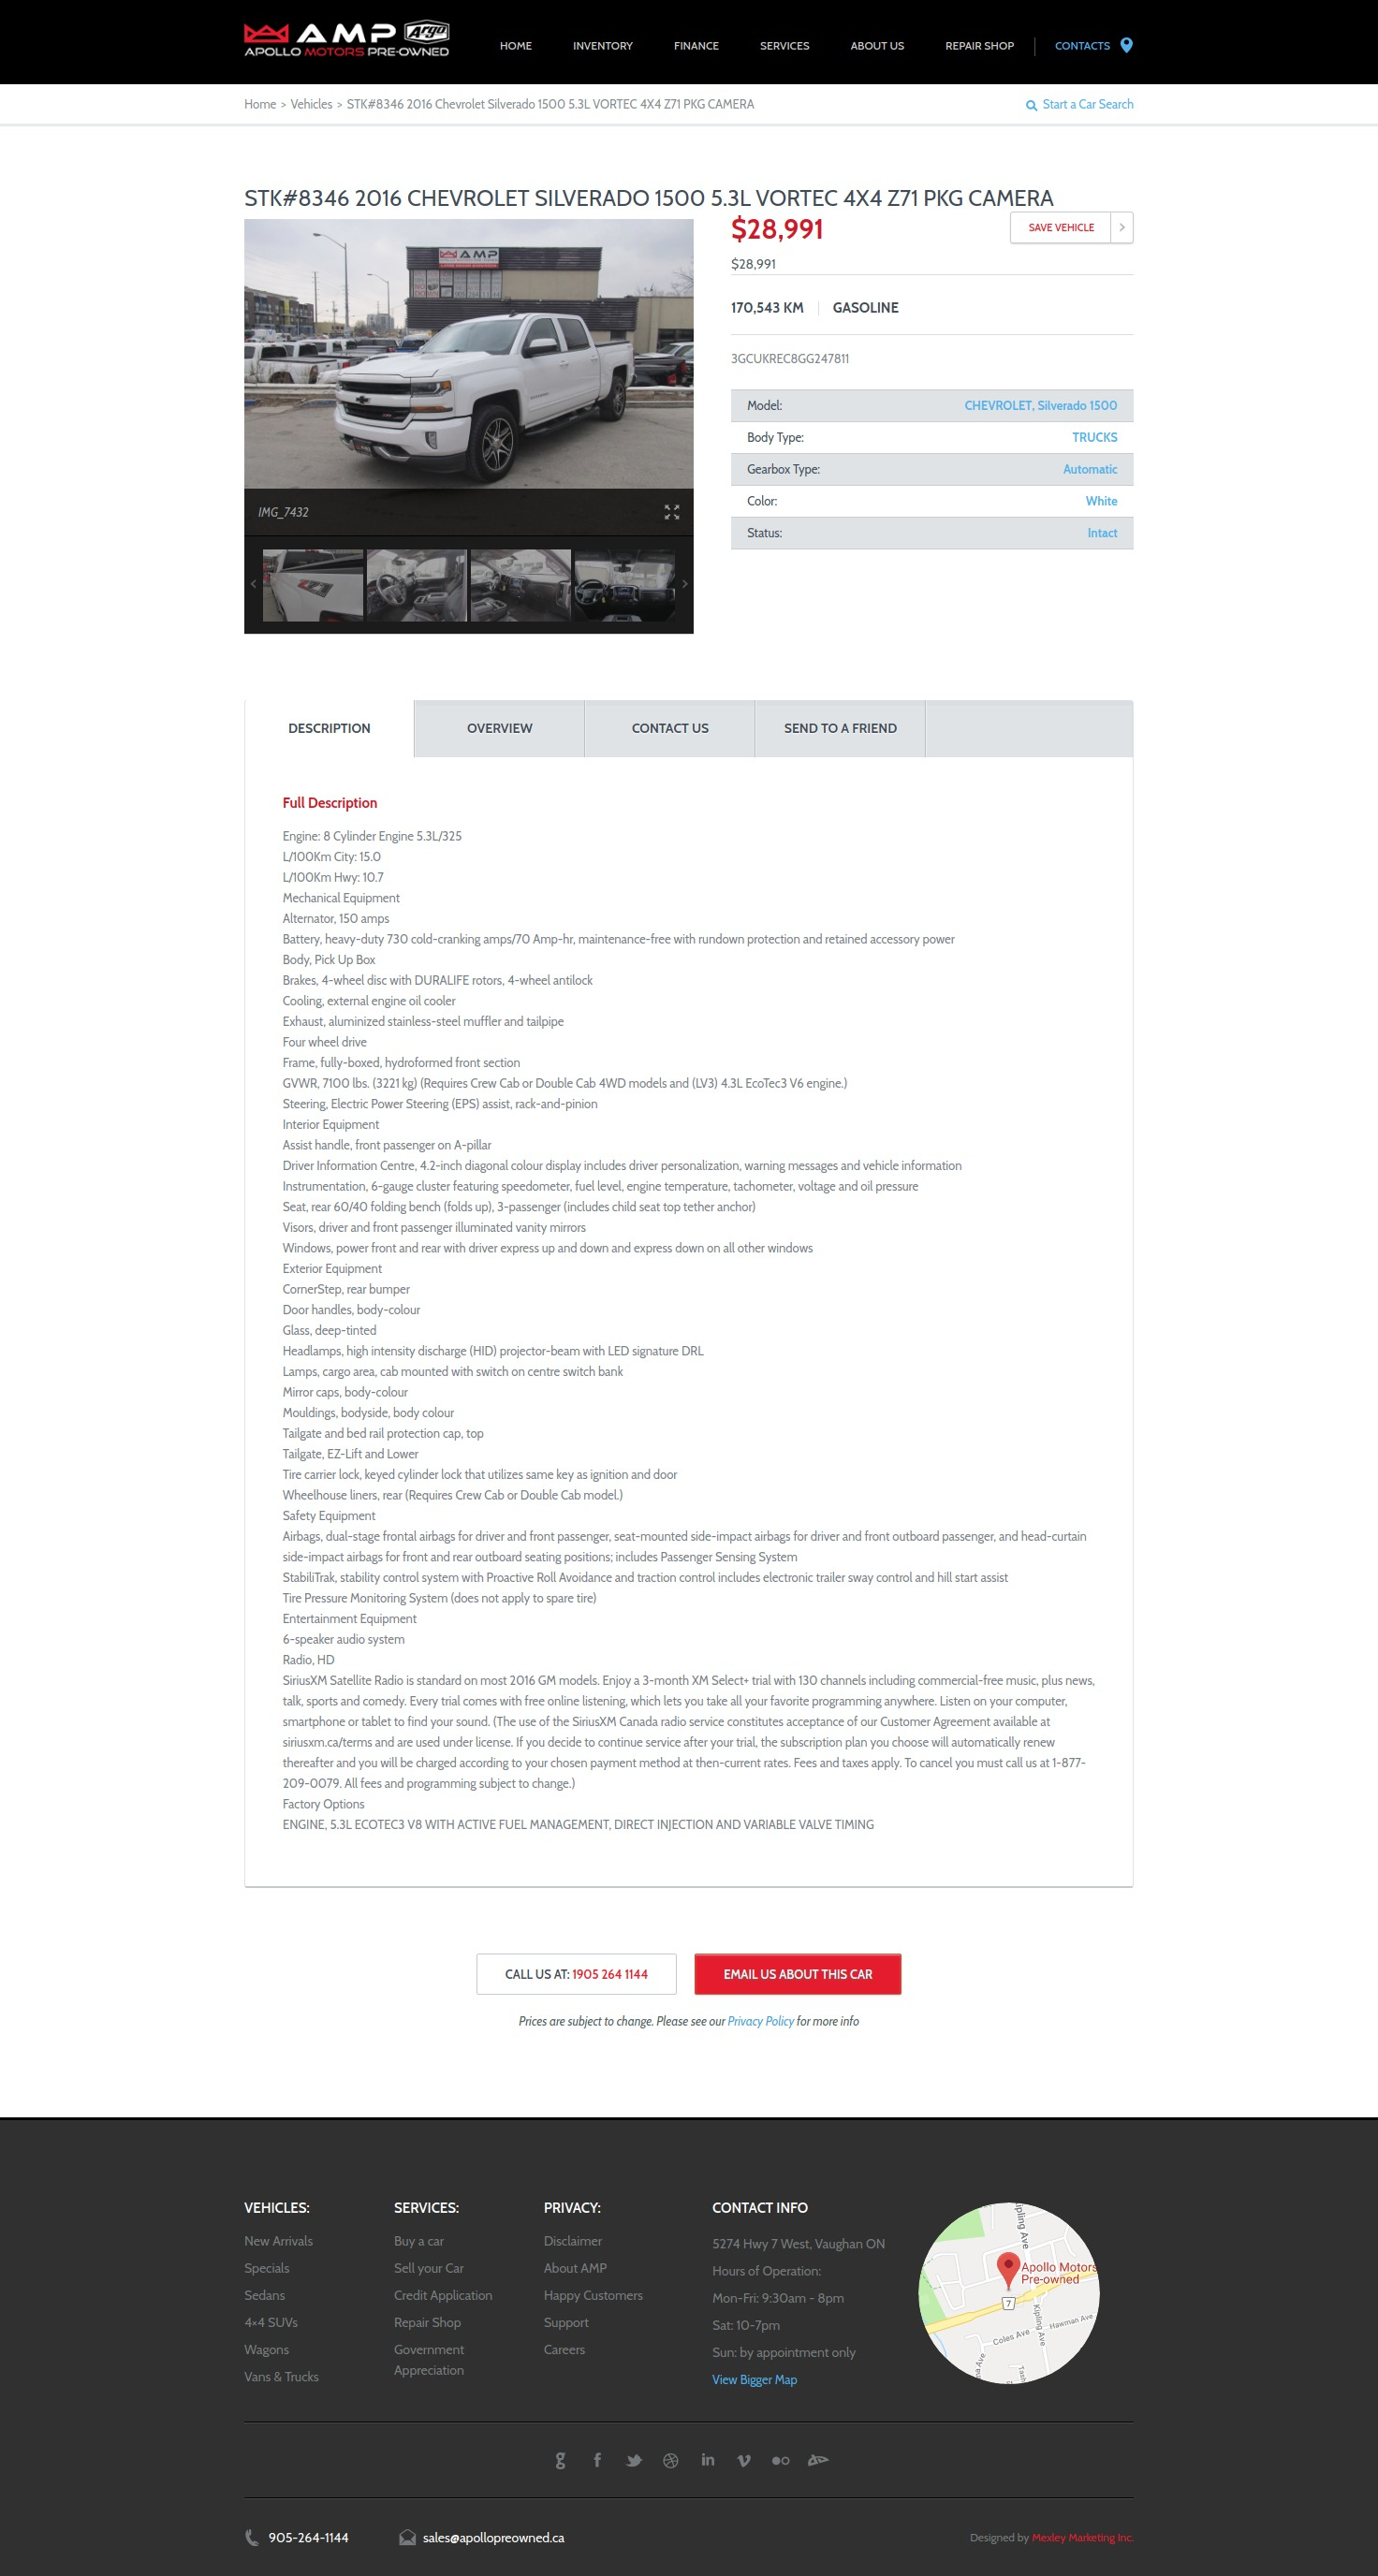car: (681, 579, 690, 591)
